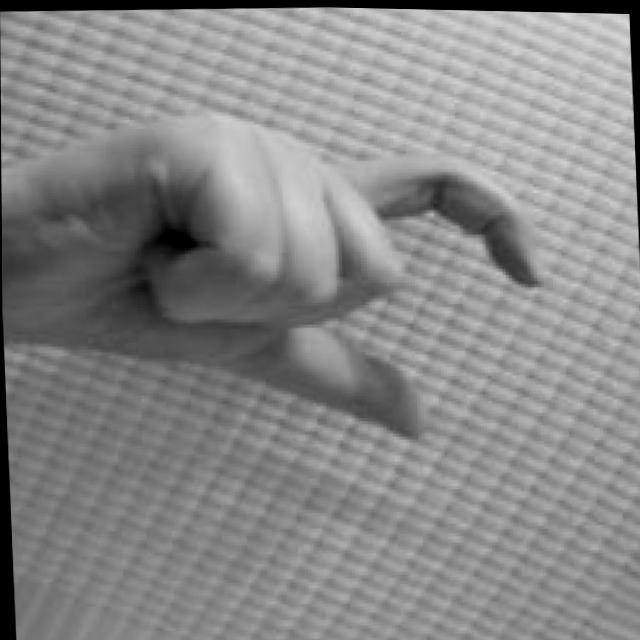C: (71, 93, 551, 455)
